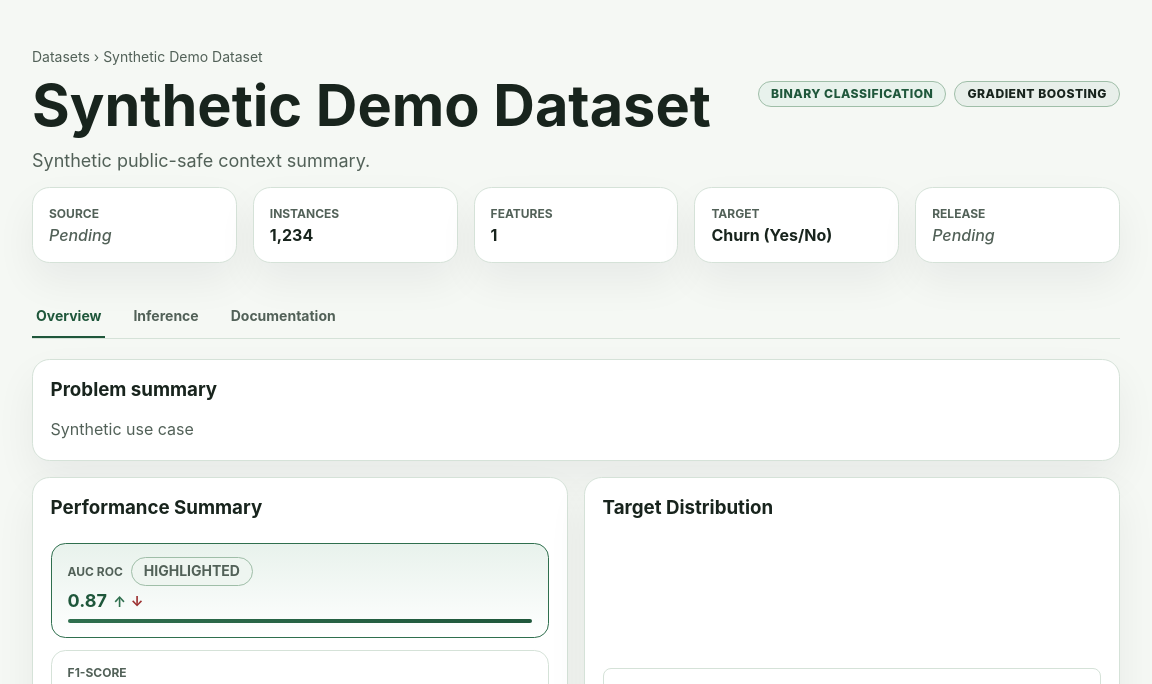
Test: DatasetPage Overview tabs (Project Spec S0117) › switches from Overview to Inference and renders the split inference layout
Expected: the heading "Synthetic Demo Dataset" is shown, [32,77,711,135]
Expected: the text "Synthetic public-safe context summary." is shown, [32,150,370,171]
Click the tab "Inference" at (166, 317), box [129,295,203,338]
(page scrolled)
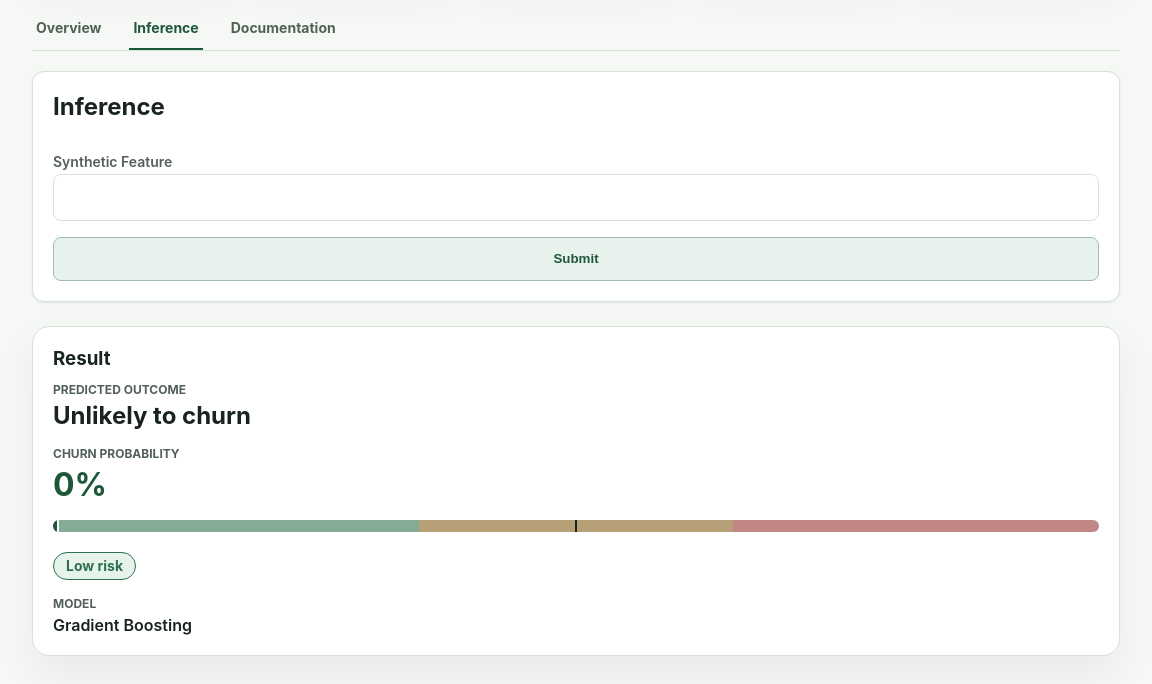
Expected: the text "Synthetic Feature" is shown, [53,153,172,170]
Expected: the element named "Inference Form" is shown
Expected: the form is shown, [53,153,1099,281]
